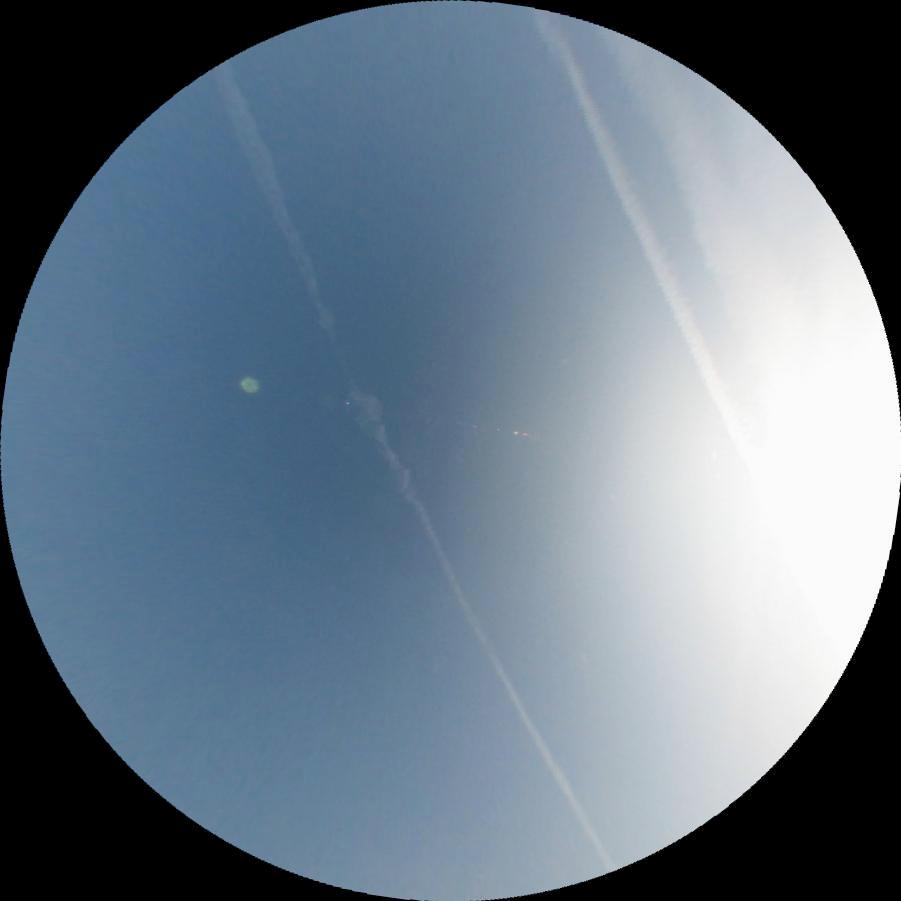contrail veryold: (193, 59, 615, 885), (529, 0, 773, 484), (595, 5, 783, 315)
